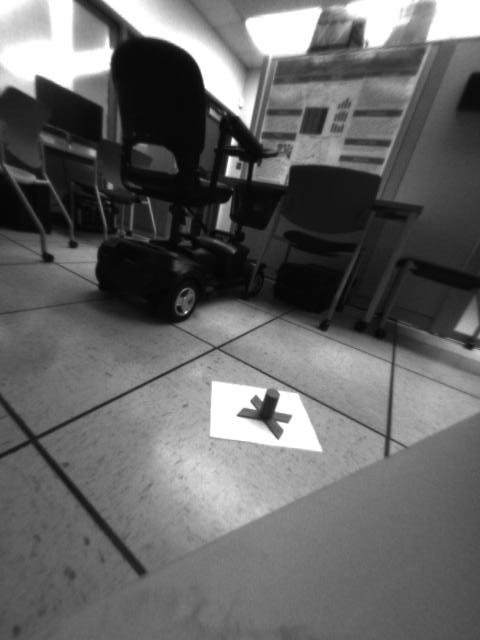X: (236, 386, 292, 439)
